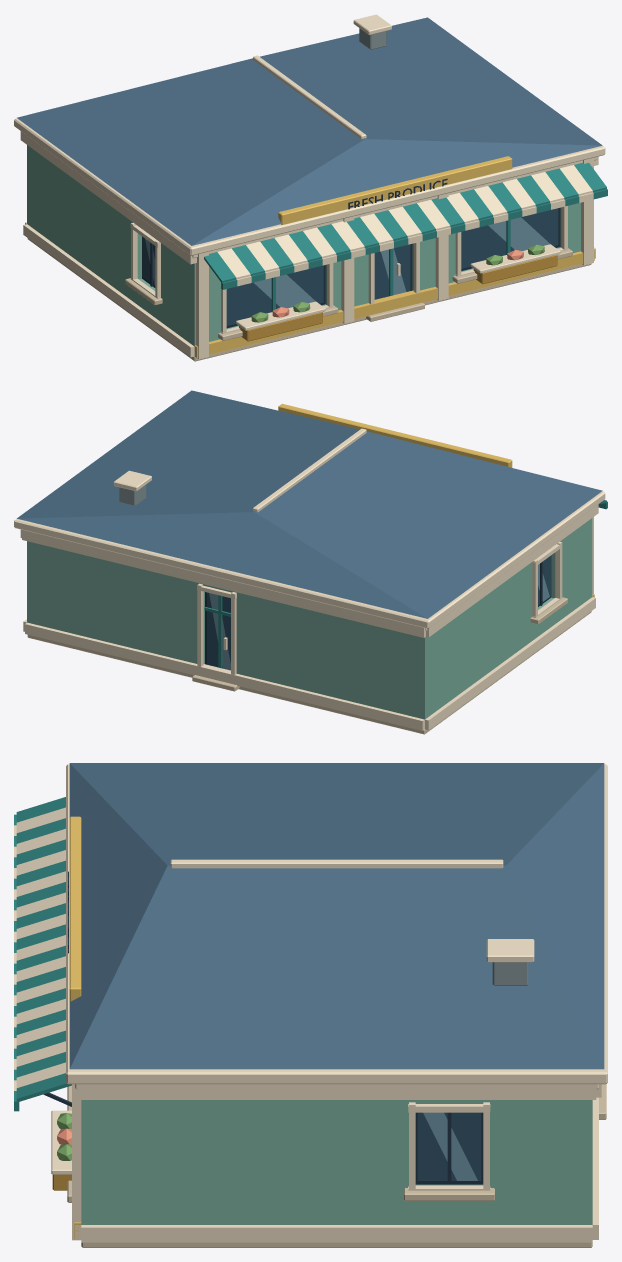
The model's file is fresh_produce_shop.glb.
3 renders of one model, top to bottom at view 1: azimuth 30°, elevation 25°; view 2: azimuth 150°, elevation 25°; view 3: azimuth 270°, elevation 25°, orthographic. The views are drawn at different scales.
Visible parts, largest first — view 1: FreshProduceShop_StaticMesh; view 2: FreshProduceShop_StaticMesh; view 3: FreshProduceShop_StaticMesh.
Part boxes in pixels (left/top/right/bottom): FreshProduceShop_StaticMesh: left=14, top=14, right=607, bottom=361; FreshProduceShop_StaticMesh: left=14, top=390, right=607, bottom=734; FreshProduceShop_StaticMesh: left=14, top=763, right=607, bottom=1247.
Size of the model in its own units: 12.32 by 4.51 by 10.
